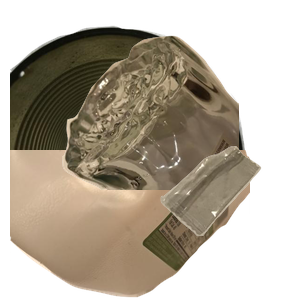glass: (60, 33, 300, 213)
metal: (10, 23, 250, 203)
plastic: (10, 150, 250, 300)
trash: (158, 144, 300, 300)
